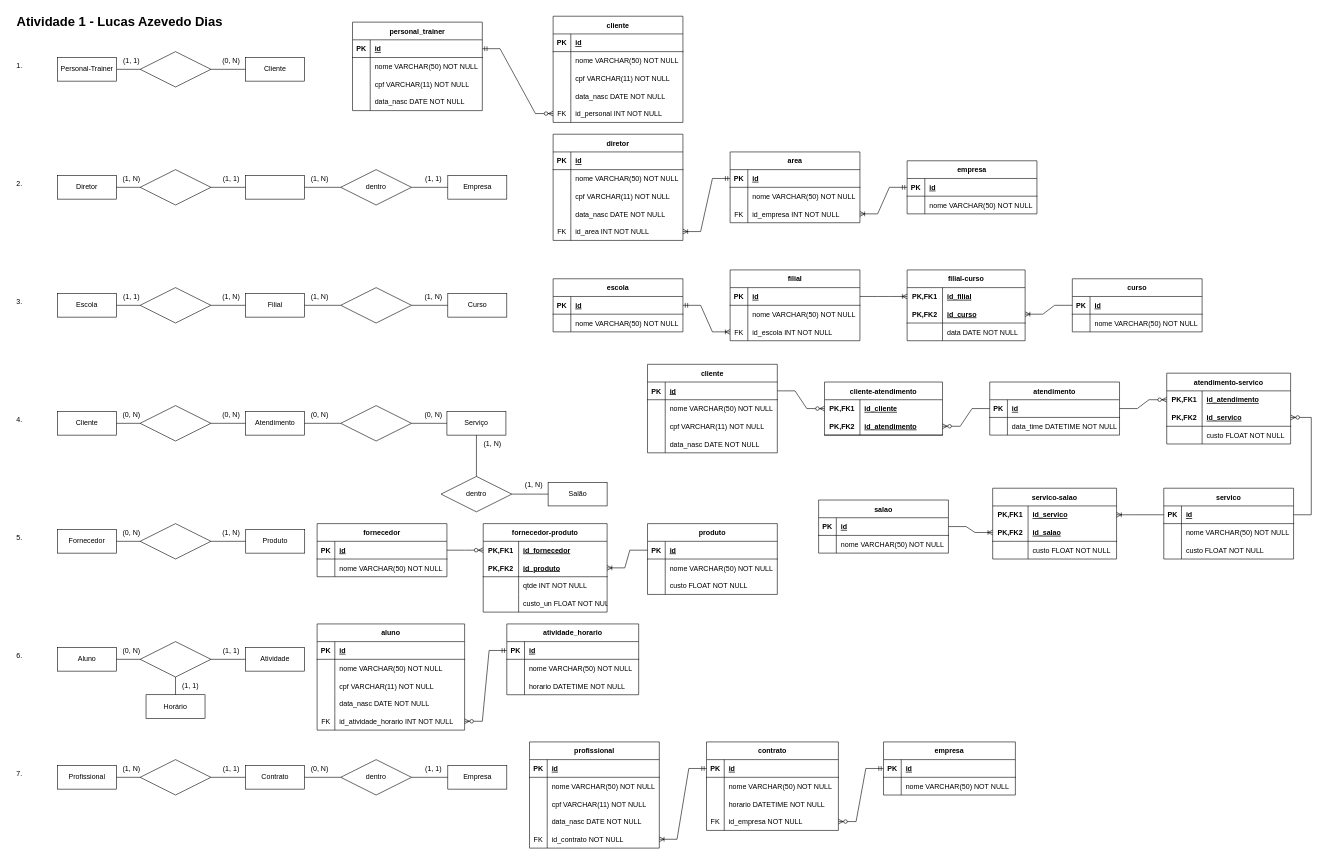
This 1326x858 diagram has some shape labels left out. Here are the shapes that lost their labels. From the top down, the centre of each, then its label:
the point at 175,69: atende
the point at 175,187: chefia
the point at 274,187: Área
the point at 175,305: possui
the point at 376,305: oferece
the point at 175,423: agenda
the point at 376,423: marca
the point at 175,541: fornece
the point at 175,659: matricula
the point at 175,777: assina
